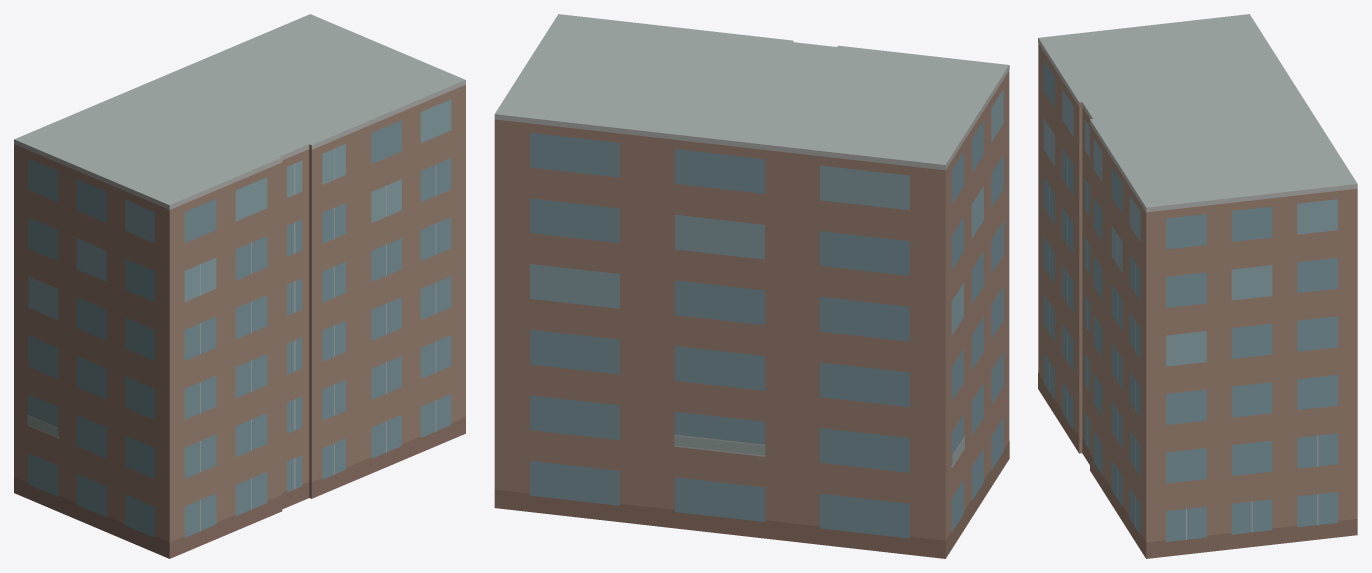
The model's file is survey-upis-33009946.glb.
The picture shows the model from 3 angles, left to right: view 1: azimuth 30°, elevation 25°; view 2: azimuth 150°, elevation 25°; view 3: azimuth 270°, elevation 25°; orthographic projection. The views are drawn at different scales.
Visible parts, largest first — view 1: survey-upis-33009946.tmp; view 2: survey-upis-33009946.tmp; view 3: survey-upis-33009946.tmp.
Boxes of the visible parts, x1,y1,x2,y2 form: survey-upis-33009946.tmp: (14,14,465,558); survey-upis-33009946.tmp: (494,14,1009,558); survey-upis-33009946.tmp: (1038,14,1357,558).
Bounding box in the file's own units: 21.66 × 18.3 × 15.1.
